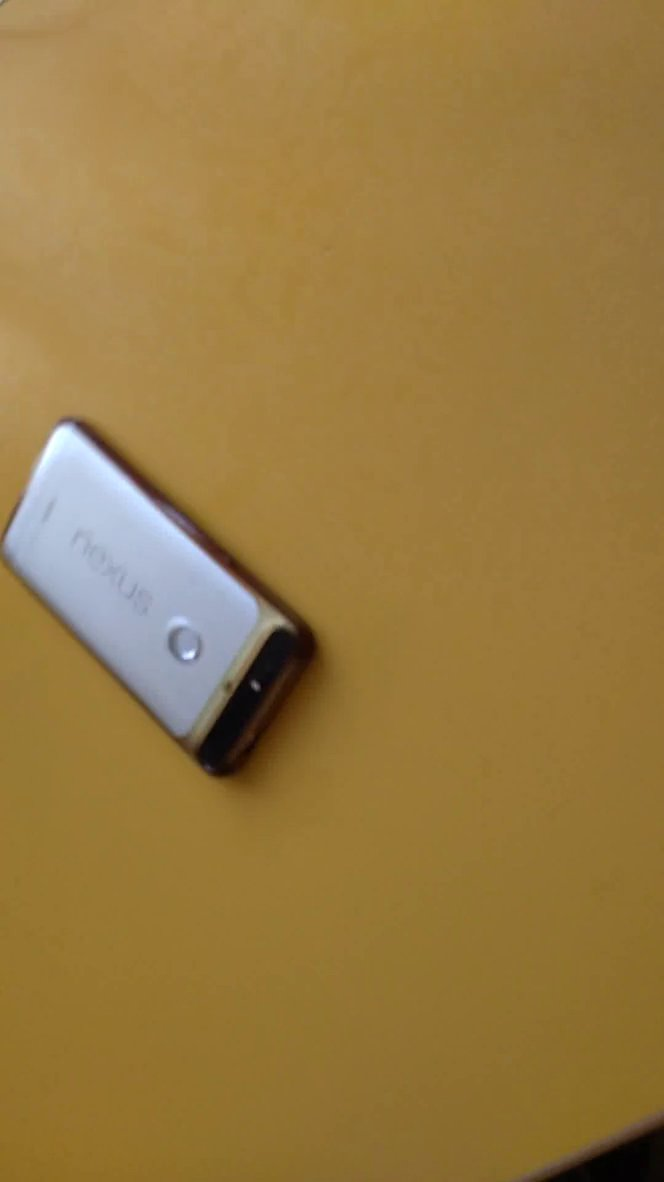phone: (1, 400, 348, 795)
